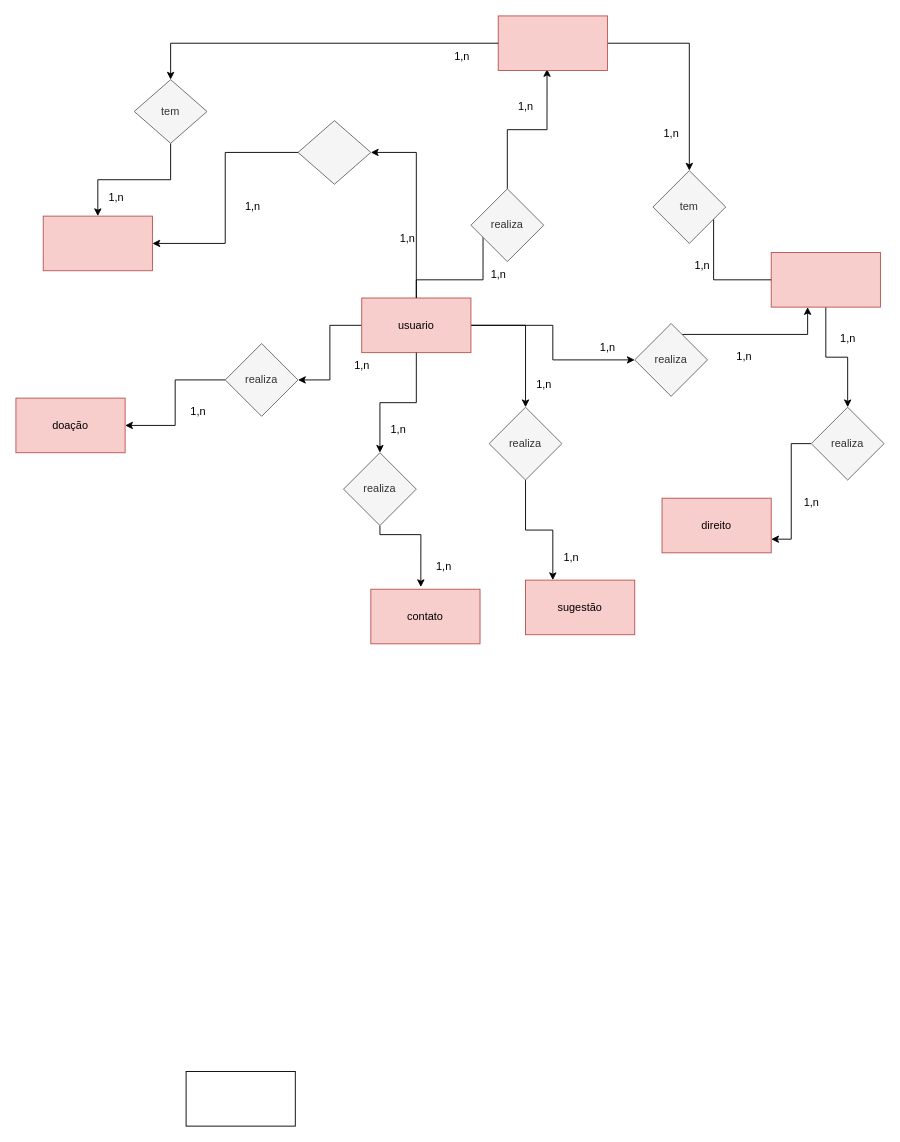
This 900x1142 diagram has some shape labels left out. The centre of each missing label's shape, as x and y in pixels:
blog: (x=552, y=43)
necessidades especiais/criança: (x=825, y=279)
possui: (x=334, y=152)
profissionais: (x=97, y=243)
